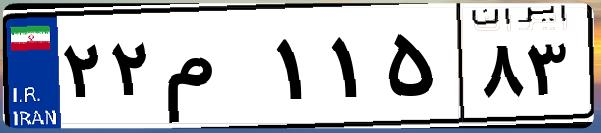1: (270, 28, 330, 110), (330, 28, 385, 110)
2: (57, 26, 110, 100), (110, 28, 158, 98)
3: (525, 38, 570, 115)
5: (385, 28, 445, 110)
8: (475, 38, 525, 113)
م: (158, 20, 270, 120)
